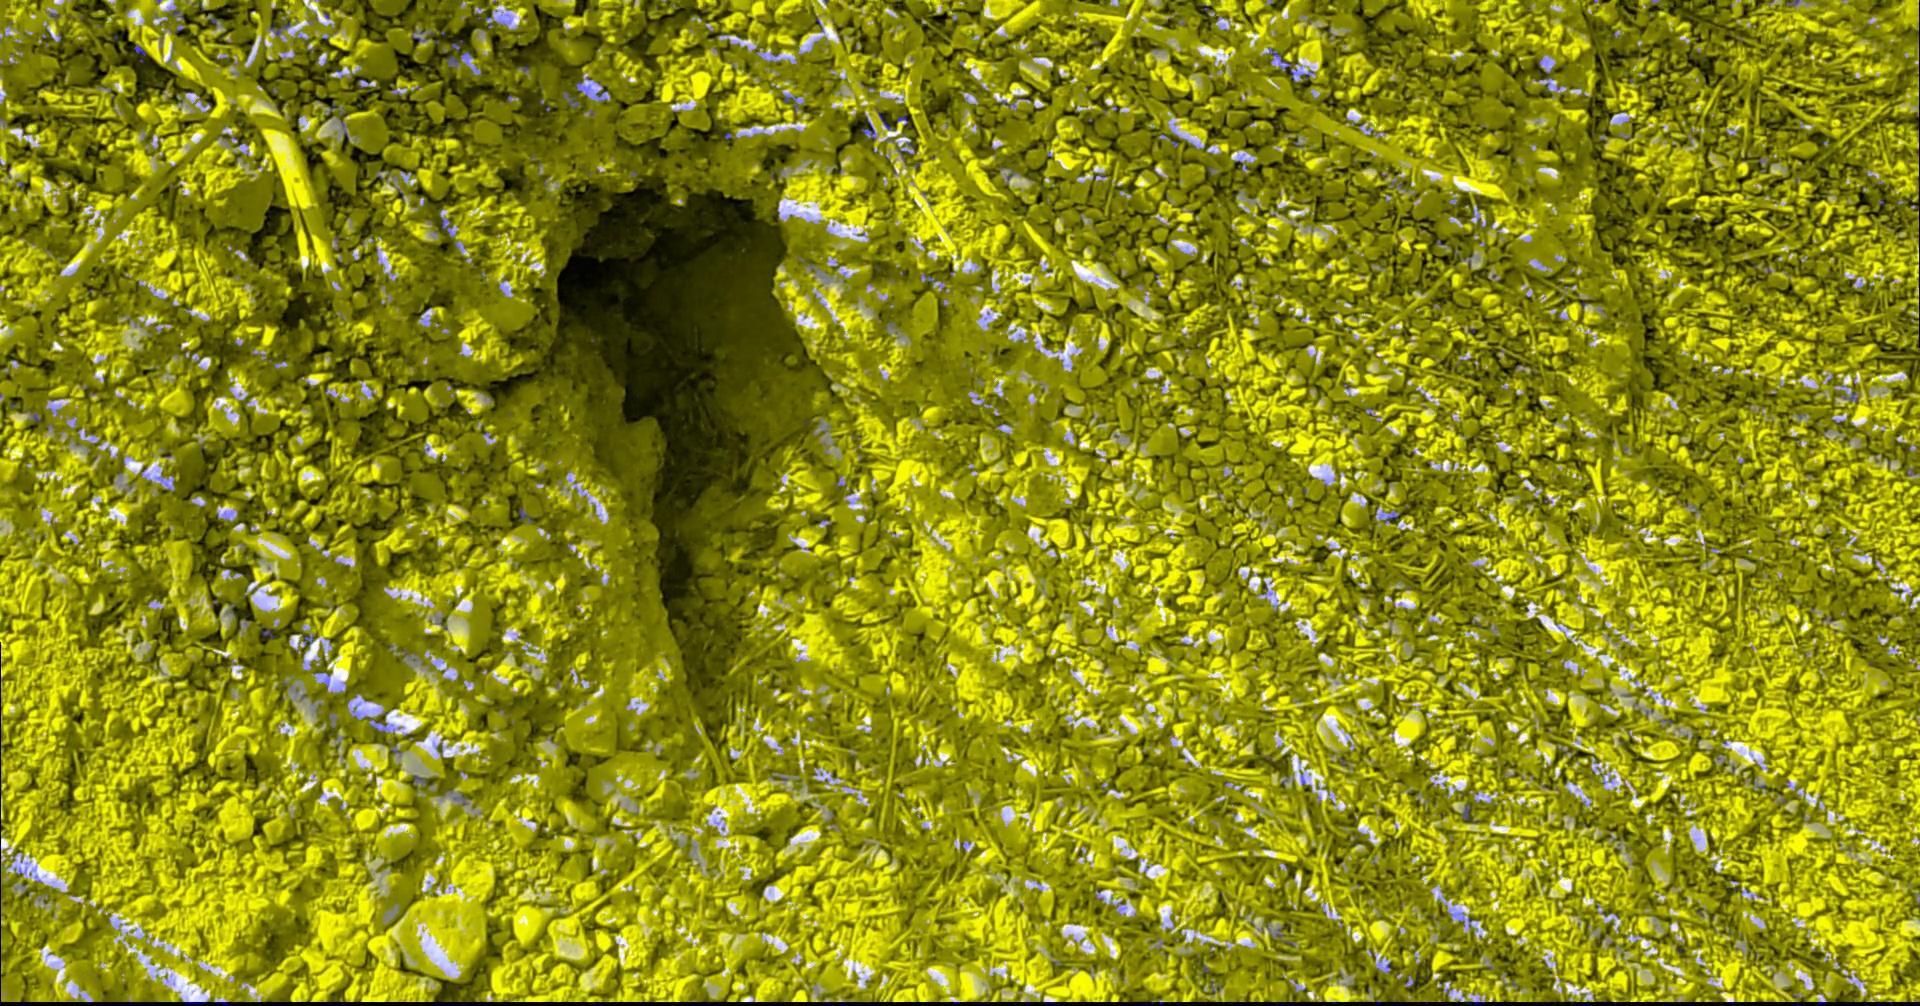ant: (1269, 47, 1297, 81), (269, 18, 290, 36), (897, 137, 914, 158), (860, 117, 875, 140)
